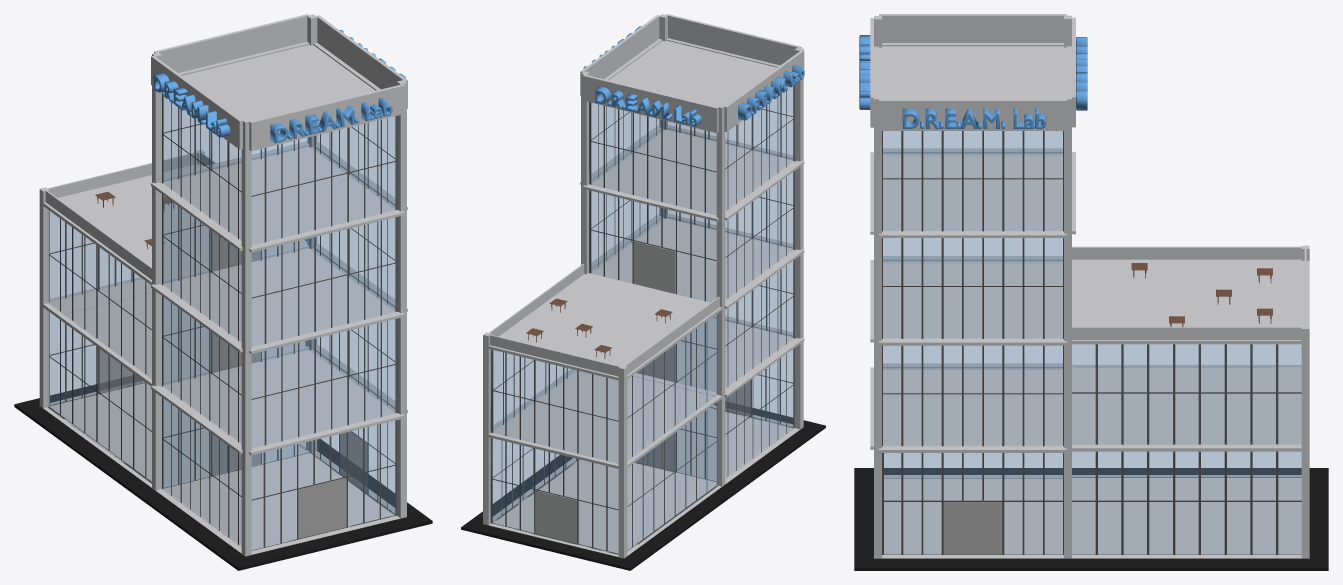
Rendered from ModelosEdificiosDREAM.glb.
3 views of the same model, side by side, from view 1: azimuth 30°, elevation 25°; view 2: azimuth 150°, elevation 25°; view 3: azimuth 270°, elevation 25° (orthographic). The views are drawn at different scales.
Parts seen in each view (by area): view 1: Techo1.003, Techo1.002, Techo1, Techo1.001, Pared04, Pared02_2do.001, Pared02_2do, Pared02_2do.002, Base_edificio, Pared04_2do.006, Pared04_2do.005, Base_edificio.002 (+26 smaller); view 2: Techo1.003, Base_edificio.002, Base_edificio.001, Techo1.002, Techo1.001, Base_edificio.003, Pared01.001, Pared01_2do.003, Pared01_2do.001, Pared01_2do.002, Pared04_2do.006, Pared04_2do.005 (+25 smaller); view 3: Pared04_2do.004, Pared04_2do.003, Techo1.003, Base_edificio.002, Pared02, Pared04_2do.001, Pared04_2do, Pared04_2do.002, Base_edificio.001, Base_edificio.003, Techo1.002, Techo1 (+17 smaller).
Part boxes in pixels (left/top/right/bottom): Techo1.003: left=151, top=14, right=407, bottom=151; Techo1.002: left=151, top=141, right=407, bottom=252; Techo1: left=151, top=345, right=407, bottom=455; Techo1.001: left=151, top=244, right=407, bottom=354; Pared04: left=251, top=420, right=396, bottom=550; Pared02_2do.001: left=251, top=217, right=397, bottom=346; Pared02_2do: left=251, top=318, right=397, bottom=447; Pared02_2do.002: left=251, top=115, right=397, bottom=244; Base_edificio: left=152, top=450, right=406, bottom=556; Pared04_2do.006: left=48, top=312, right=151, bottom=483; Pared04_2do.005: left=49, top=211, right=151, bottom=378; Base_edificio.002: left=40, top=277, right=305, bottom=386; Techo1.003: left=580, top=14, right=804, bottom=132; Base_edificio.002: left=483, top=369, right=721, bottom=469; Base_edificio.001: left=483, top=458, right=721, bottom=558; Techo1.002: left=580, top=125, right=804, bottom=221; Techo1.001: left=583, top=213, right=804, bottom=309; Base_edificio.003: left=483, top=275, right=721, bottom=380; Pared01.001: left=490, top=438, right=618, bottom=554; Pared01_2do.003: left=490, top=349, right=618, bottom=463; Pared01_2do.001: left=589, top=190, right=716, bottom=301; Pared01_2do.002: left=589, top=102, right=716, bottom=214; Pared04_2do.006: left=627, top=402, right=717, bottom=550; Pared04_2do.005: left=627, top=313, right=717, bottom=459; Pared04_2do.004: left=1072, top=451, right=1301, bottom=554; Pared04_2do.003: left=1072, top=344, right=1301, bottom=444; Techo1.003: left=870, top=14, right=1075, bottom=130; Base_edificio.002: left=1071, top=365, right=1309, bottom=451; Pared02: left=882, top=453, right=1063, bottom=554; Pared04_2do.001: left=882, top=238, right=1063, bottom=338; Pared04_2do: left=882, top=345, right=1063, bottom=446; Pared04_2do.002: left=882, top=131, right=1063, bottom=231; Base_edificio.001: left=1072, top=475, right=1309, bottom=558; Base_edificio.003: left=1071, top=259, right=1309, bottom=344; Techo1.002: left=870, top=148, right=1075, bottom=237; Techo1: left=870, top=363, right=1075, bottom=452.
Size of the model in its own units: 300 by 647 by 600.
